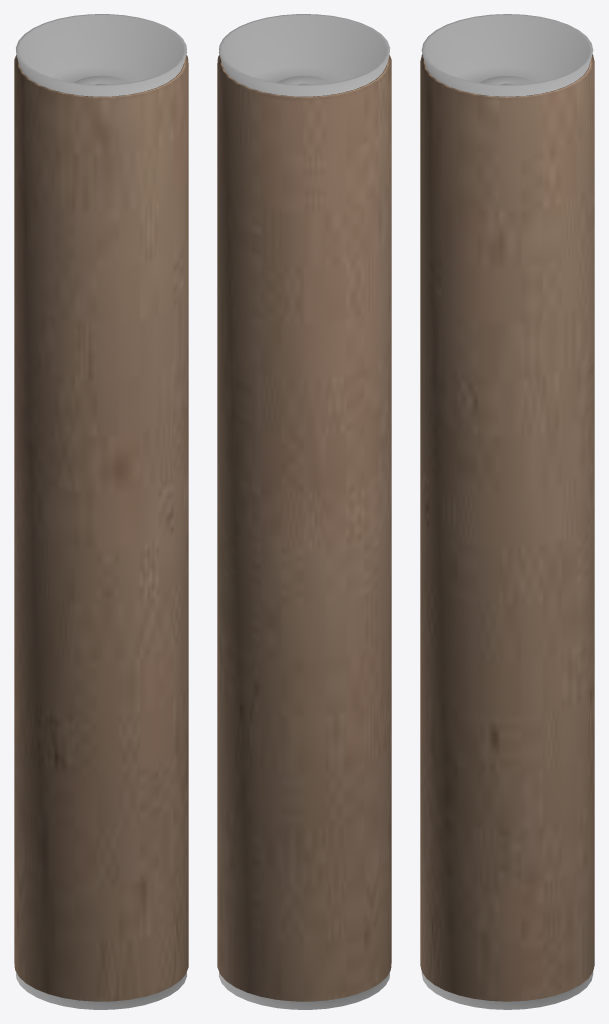
3 views of the same model, side by side, from view 1: azimuth 30°, elevation 25°; view 2: azimuth 150°, elevation 25°; view 3: azimuth 270°, elevation 25° (orthographic).
Visible parts, largest first — view 1: Cylinder, Cylinder.001, Cylinder.002; view 2: Cylinder, Cylinder.001, Cylinder.002; view 3: Cylinder, Cylinder.001, Cylinder.002.
Boxes of the visible parts, left/top/right/bottom form: Cylinder: left=14, top=55, right=188, bottom=1001; Cylinder.001: left=16, top=14, right=187, bottom=96; Cylinder.002: left=15, top=971, right=186, bottom=1009; Cylinder: left=217, top=55, right=391, bottom=1001; Cylinder.001: left=218, top=14, right=389, bottom=96; Cylinder.002: left=219, top=971, right=390, bottom=1009; Cylinder: left=420, top=54, right=594, bottom=1001; Cylinder.001: left=421, top=14, right=593, bottom=96; Cylinder.002: left=421, top=972, right=593, bottom=1009.
Bounding box in the file's own units: 2 × 11.68 × 2.
2 materials, 1 textured.
